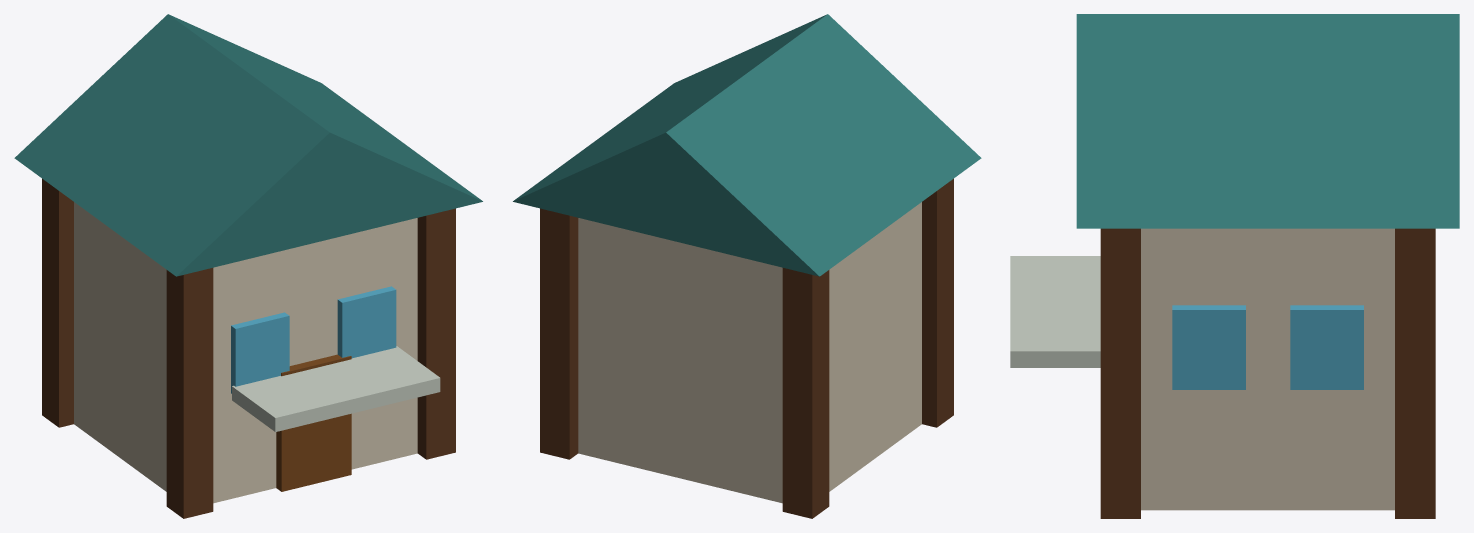
File: kiosk.glb
The picture shows the model from 3 angles, left to right: view 1: azimuth 30°, elevation 25°; view 2: azimuth 150°, elevation 25°; view 3: azimuth 270°, elevation 25°; orthographic projection. The views are drawn at different scales.
Parts seen in each view (by area): view 1: awning; view 2: awning; view 3: awning.
Part boxes in pixels (x1=…): awning: x1=14, y1=14, x2=482, y2=518; awning: x1=513, y1=14, x2=981, y2=518; awning: x1=1010, y1=14, x2=1459, y2=518.
Size of the model in its own units: 1.14 by 1.28 by 1.22.
